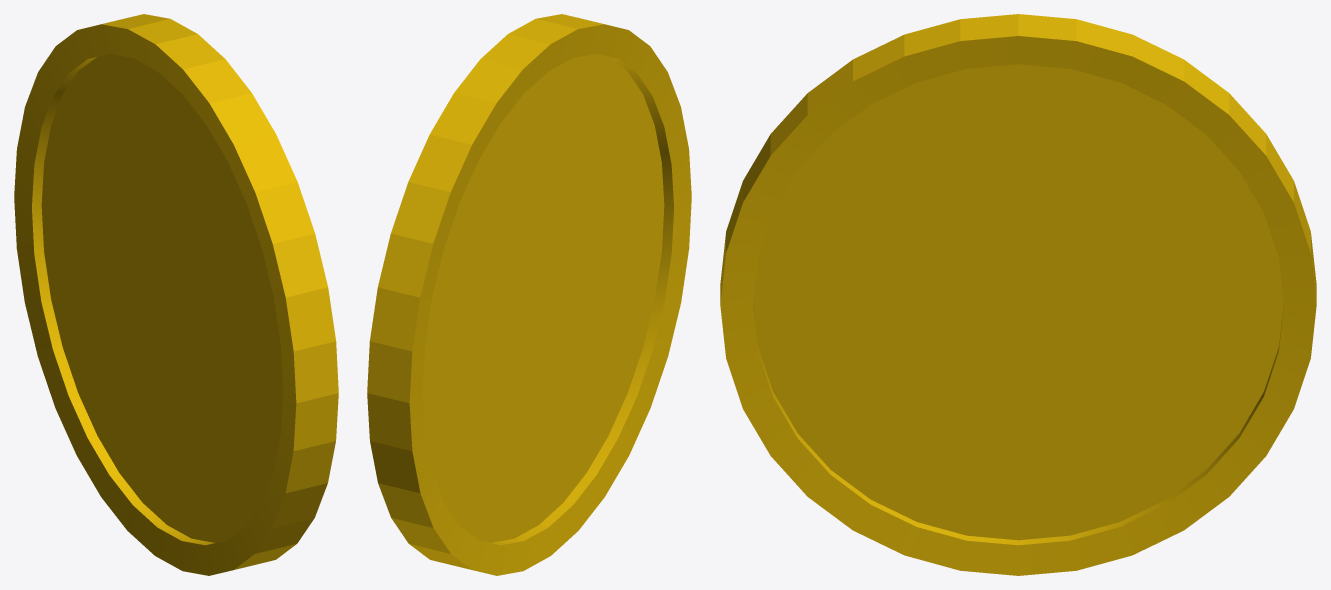
File: coins_remodeled.fbx
3 renders of one model, left to right at view 1: azimuth 30°, elevation 25°; view 2: azimuth 150°, elevation 25°; view 3: azimuth 270°, elevation 25°, orthographic. The views are drawn at different scales.
Visible parts, largest first — view 1: Coins; view 2: Coins; view 3: Coins.
Part boxes in pixels (box(x1,y1,x2,y2)): Coins: box(14, 14, 338, 575); Coins: box(367, 14, 691, 575); Coins: box(720, 14, 1316, 575).
Size of the model in its own units: 17.6 by 200 by 200.
